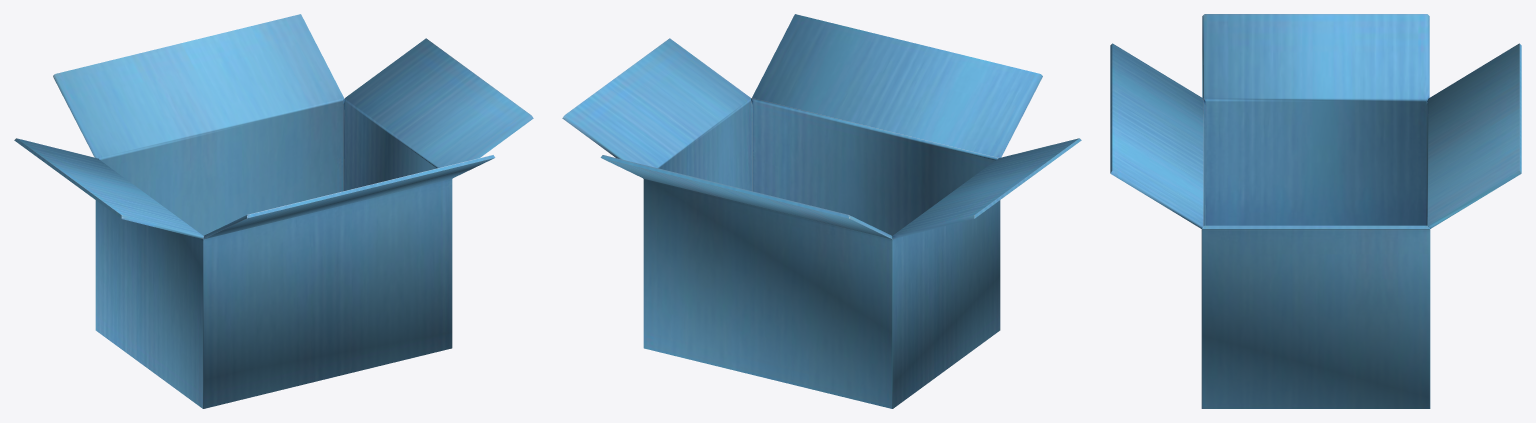
Rendered from dropbox.dae.
3 renders of one model, left to right at view 1: azimuth 30°, elevation 25°; view 2: azimuth 150°, elevation 25°; view 3: azimuth 270°, elevation 25°, orthographic. The views are drawn at different scales.
Parts seen in each view (by area): view 1: box.1; view 2: box.1; view 3: box.1.
Boxes of the visible parts, box(x1,y1,x2,y2) form: box.1: box(14, 14, 533, 408); box.1: box(562, 14, 1081, 408); box.1: box(1110, 14, 1521, 408).
Bounding box in the file's own units: 330 × 172 × 270.
1 material, 1 textured.
